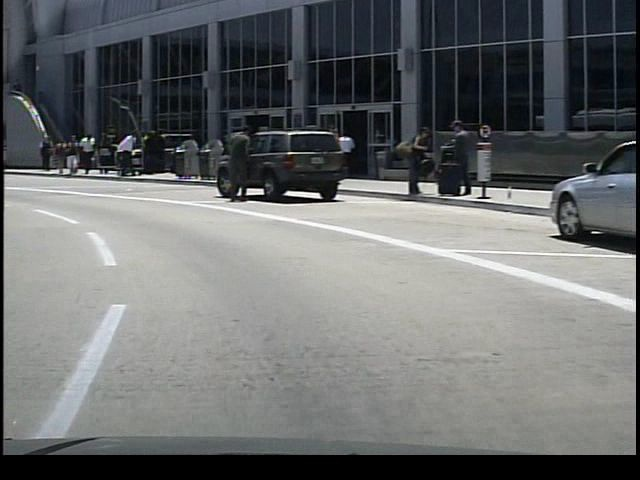person: (425, 114, 470, 197), (393, 120, 426, 200), (222, 115, 250, 207), (111, 125, 136, 179), (333, 126, 355, 185), (74, 129, 96, 179), (59, 132, 78, 180), (35, 135, 53, 175)
